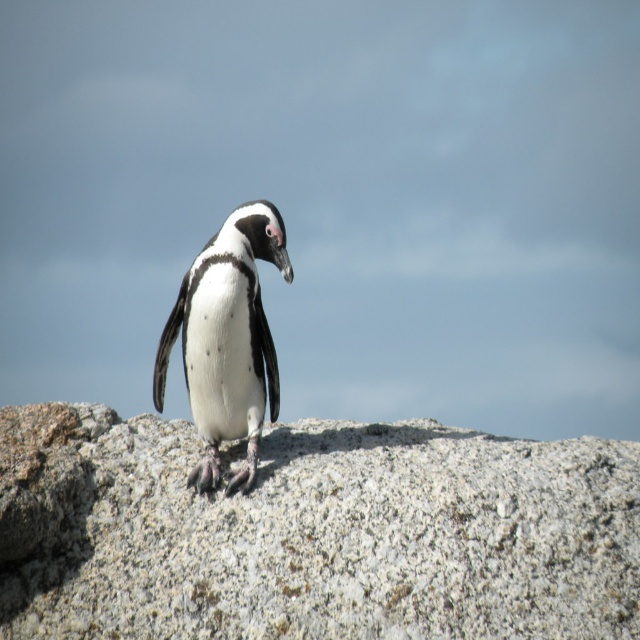Penguin: (152, 196, 296, 497)
